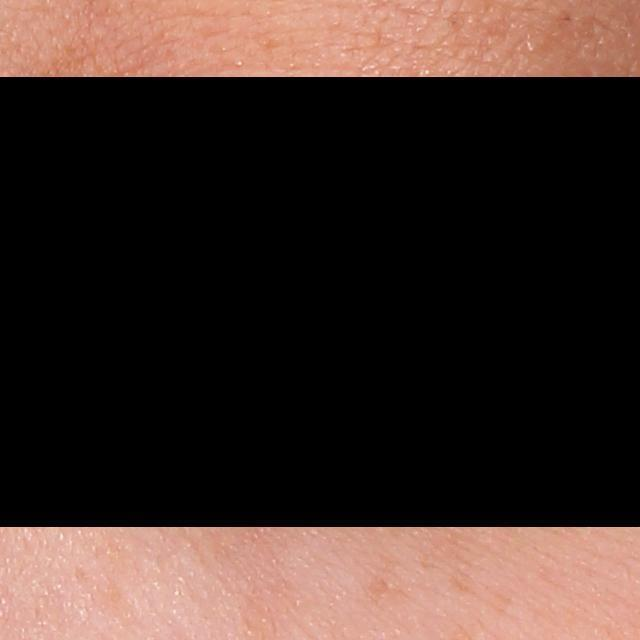melasma: (372, 504, 480, 598), (362, 571, 413, 605)
